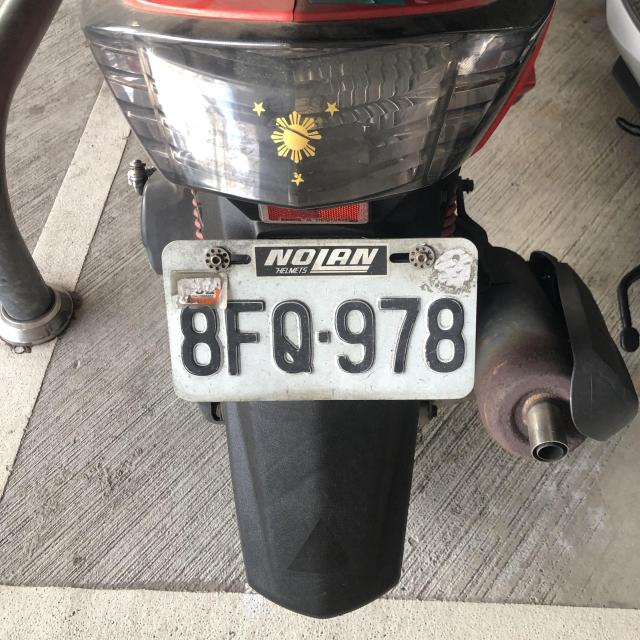W: (158, 242, 476, 404)
